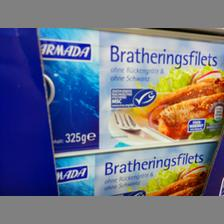Fisch: (37, 28, 224, 152), (46, 142, 218, 194)
